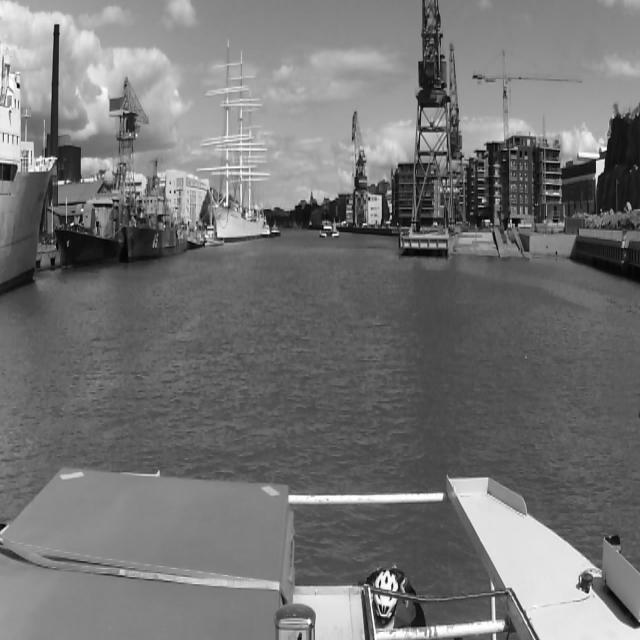ship: (0, 56, 55, 296), (200, 40, 264, 241), (121, 156, 189, 260), (57, 202, 123, 263), (200, 228, 220, 247), (320, 219, 338, 237), (272, 223, 280, 237), (262, 223, 270, 237)
